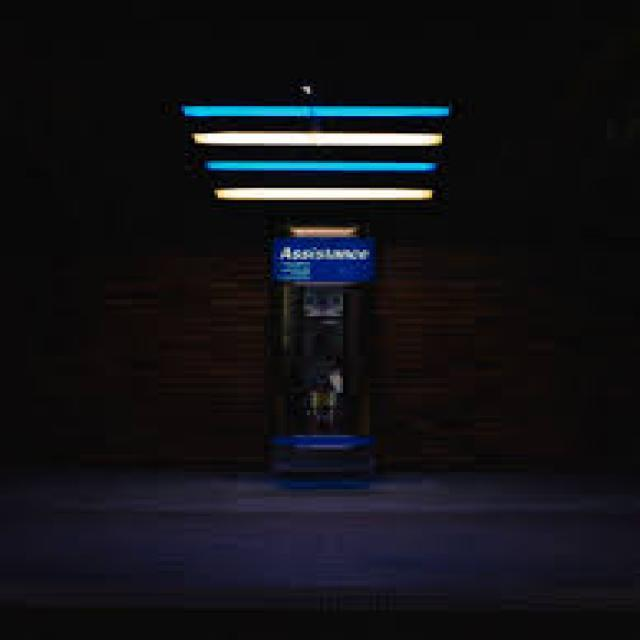tubelight_on: (183, 99, 457, 117), (192, 130, 445, 148), (203, 159, 439, 174), (213, 188, 435, 202), (288, 223, 364, 236)
